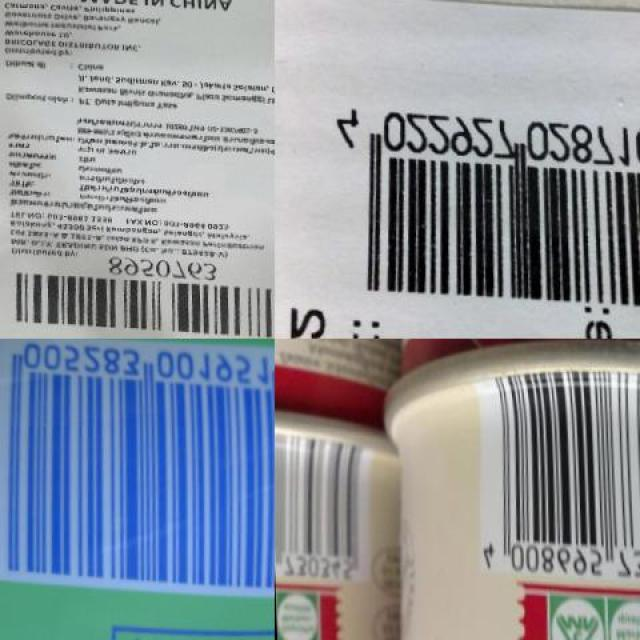Barcode: (314, 67, 640, 317), (0, 339, 275, 600), (466, 354, 640, 577), (0, 248, 275, 339)
